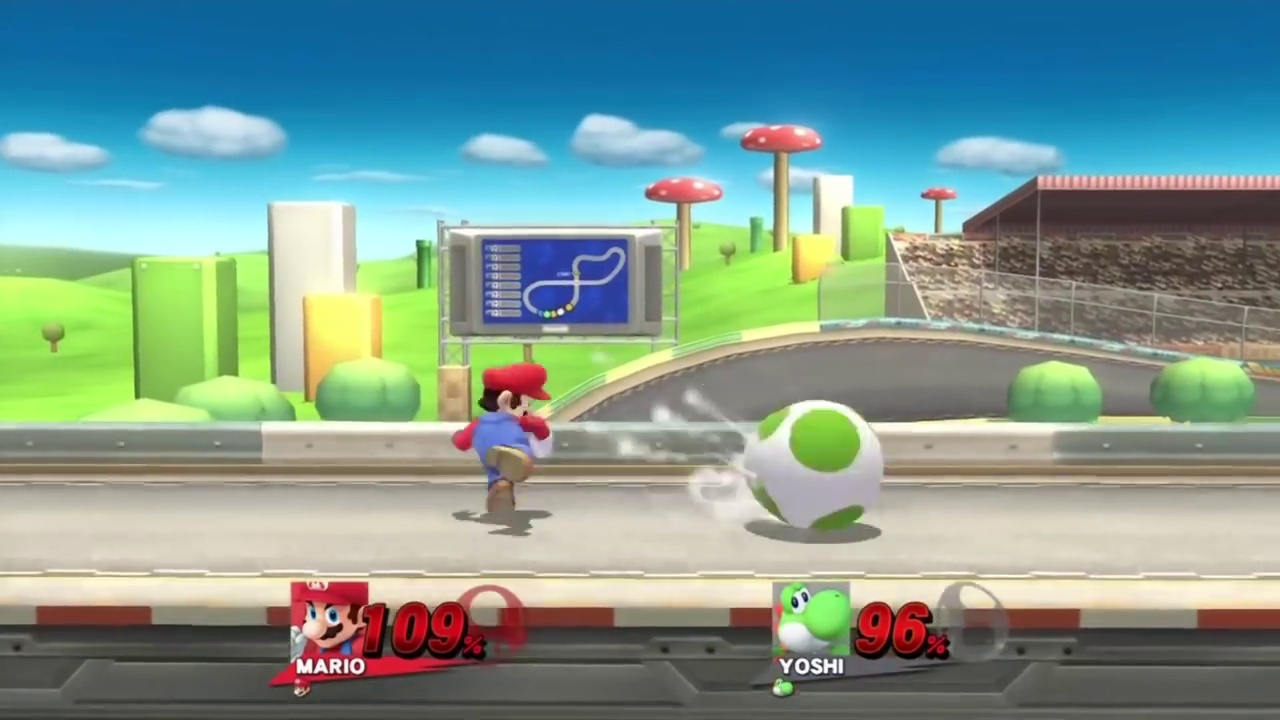Mario: (451, 367, 559, 514)
